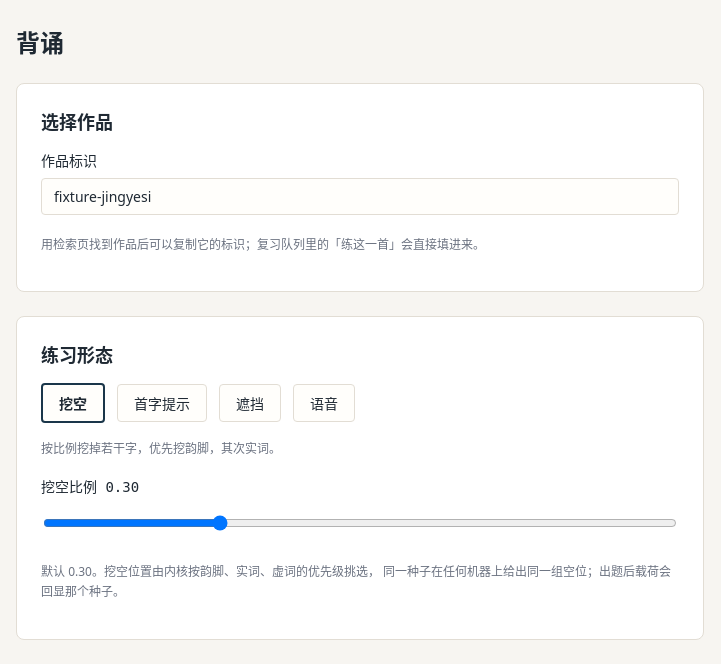
Test: 整局流程 › 语音形态的退化原因来自载荷，界面不自己编一句
Click the button with test id "mode-voice".
click(324, 403)  # box [293,384,355,422]
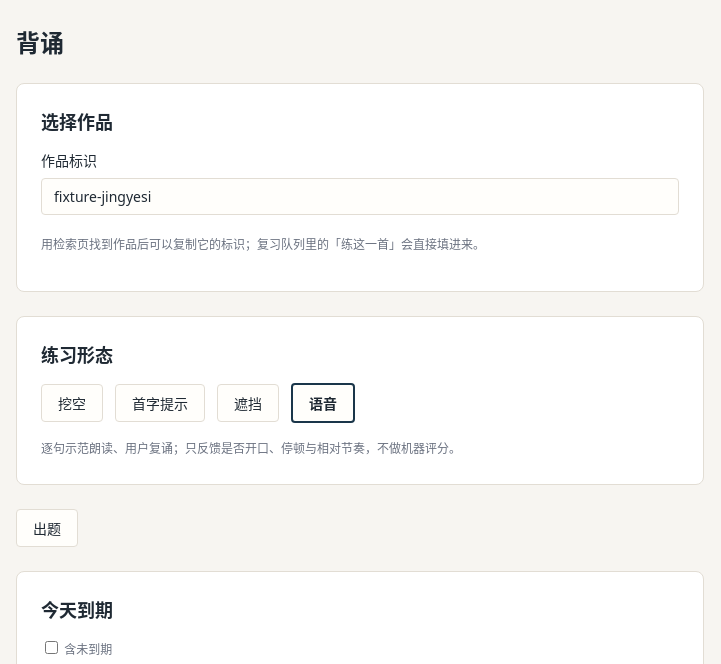
Click the button with test id "start-session".
click(47, 528)  # box [16,509,78,547]
(page scrolled)
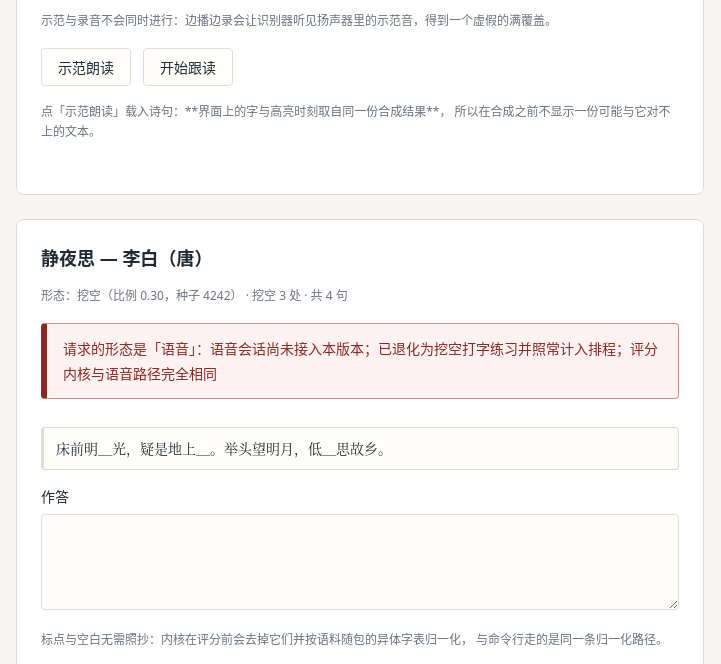
Now the message "请求的形态是「语音」：语音会话尚未接入本版本；已退化为挖空打字练习并照常计入排程；评分内核与语音路径完全相同" is shown, box [41,323,679,399]
Now the message with test id "voice-fallback" shows "请求的形态是「语音」", box [63,339,210,358]
Now the message with test id "voice-fallback" shows "语音会话尚未接入本版本", box [63,339,658,383]
